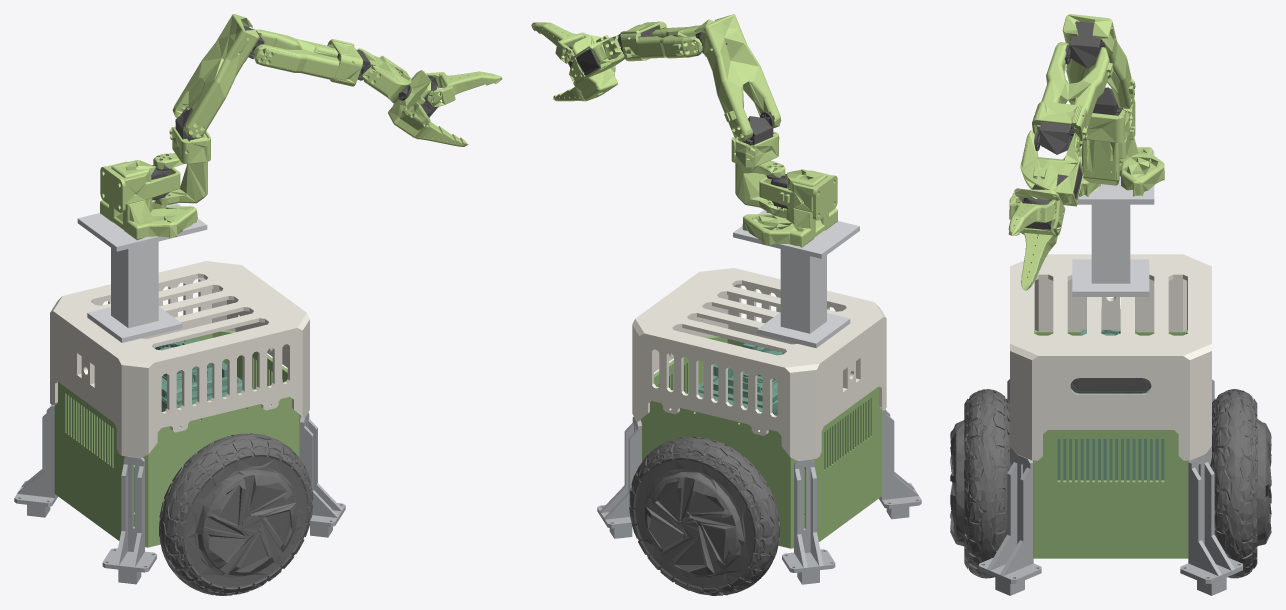
File: via_c_v0_1_hai.glb
3 renders of one model, left to right at view 1: azimuth 30°, elevation 25°; view 2: azimuth 150°, elevation 25°; view 3: azimuth 270°, elevation 25°, orthographic. The views are drawn at different scales.
Visible parts, largest first — view 1: base_shell, base_wheel, base_chassis, base_bracket, riser, upper_arm_link_8, base_link_1, lower_arm_link_9, gripper_link_15, shoulder_link_6, wrist_link_13, moving_jaw_so101_v1_link_16 (+5 smaller); view 2: base_shell, base_wheel, base_chassis, base_bracket, riser, upper_arm_link_8, base_link_1, lower_arm_link_9, gripper_link_15, shoulder_link_6, base_board, base_link_0 (+6 smaller); view 3: base_shell, base_wheel, base_chassis, base_bracket, riser, base_board, lower_arm_link_9, upper_arm_link_8, wrist_link_13, gripper_link_15, base_link_1, shoulder_link_6 (+7 smaller).
Part boxes in pixels (box(x1,y1,x2,y2)): base_shell: box(50, 261, 309, 457); base_wheel: box(159, 433, 313, 595); base_chassis: box(54, 330, 301, 547); base_bracket: box(14, 404, 345, 584); riser: box(77, 203, 207, 342); upper_arm_link_8: box(172, 14, 259, 138); base_link_1: box(100, 160, 197, 240); lower_arm_link_9: box(253, 29, 339, 80); gripper_link_15: box(388, 70, 468, 146); shoulder_link_6: box(153, 133, 207, 205); wrist_link_13: box(358, 48, 411, 103); moving_jaw_so101_v1_link_16: box(426, 71, 502, 106); base_shell: box(632, 268, 886, 460); base_wheel: box(629, 436, 780, 595); base_chassis: box(640, 336, 882, 548); base_bracket: box(597, 408, 921, 584); riser: box(733, 210, 859, 348); upper_arm_link_8: box(694, 14, 781, 141); base_link_1: box(742, 169, 837, 247); lower_arm_link_9: box(637, 25, 702, 58); gripper_link_15: box(553, 35, 617, 101); shoulder_link_6: box(734, 138, 785, 213); base_board: box(686, 343, 784, 415); base_link_0: box(759, 170, 831, 212); base_shell: box(1010, 254, 1211, 460); base_wheel: box(950, 389, 1271, 578); base_chassis: box(1014, 330, 1206, 558); base_bracket: box(979, 379, 1242, 595); riser: box(1072, 150, 1154, 296); base_board: box(1057, 329, 1164, 480); lower_arm_link_9: box(1036, 42, 1113, 136); upper_arm_link_8: box(1062, 14, 1135, 108); wrist_link_13: box(1020, 130, 1083, 206); gripper_link_15: box(1012, 188, 1065, 290); base_link_1: box(1062, 138, 1164, 196); shoulder_link_6: box(1082, 110, 1125, 185).
Size of the model in its own units: 0.528 by 0.6652 by 0.3342.
